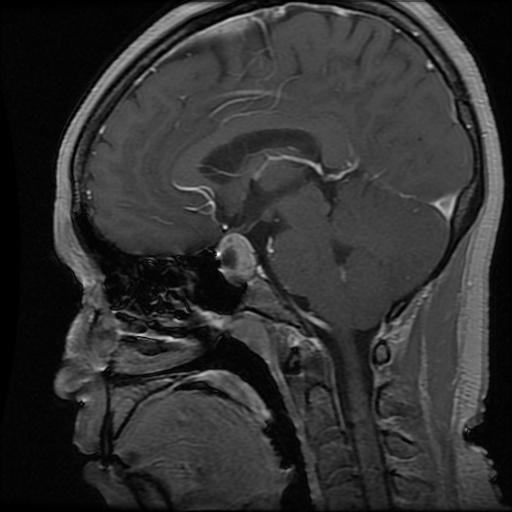pituitary: (216, 234, 256, 282)
